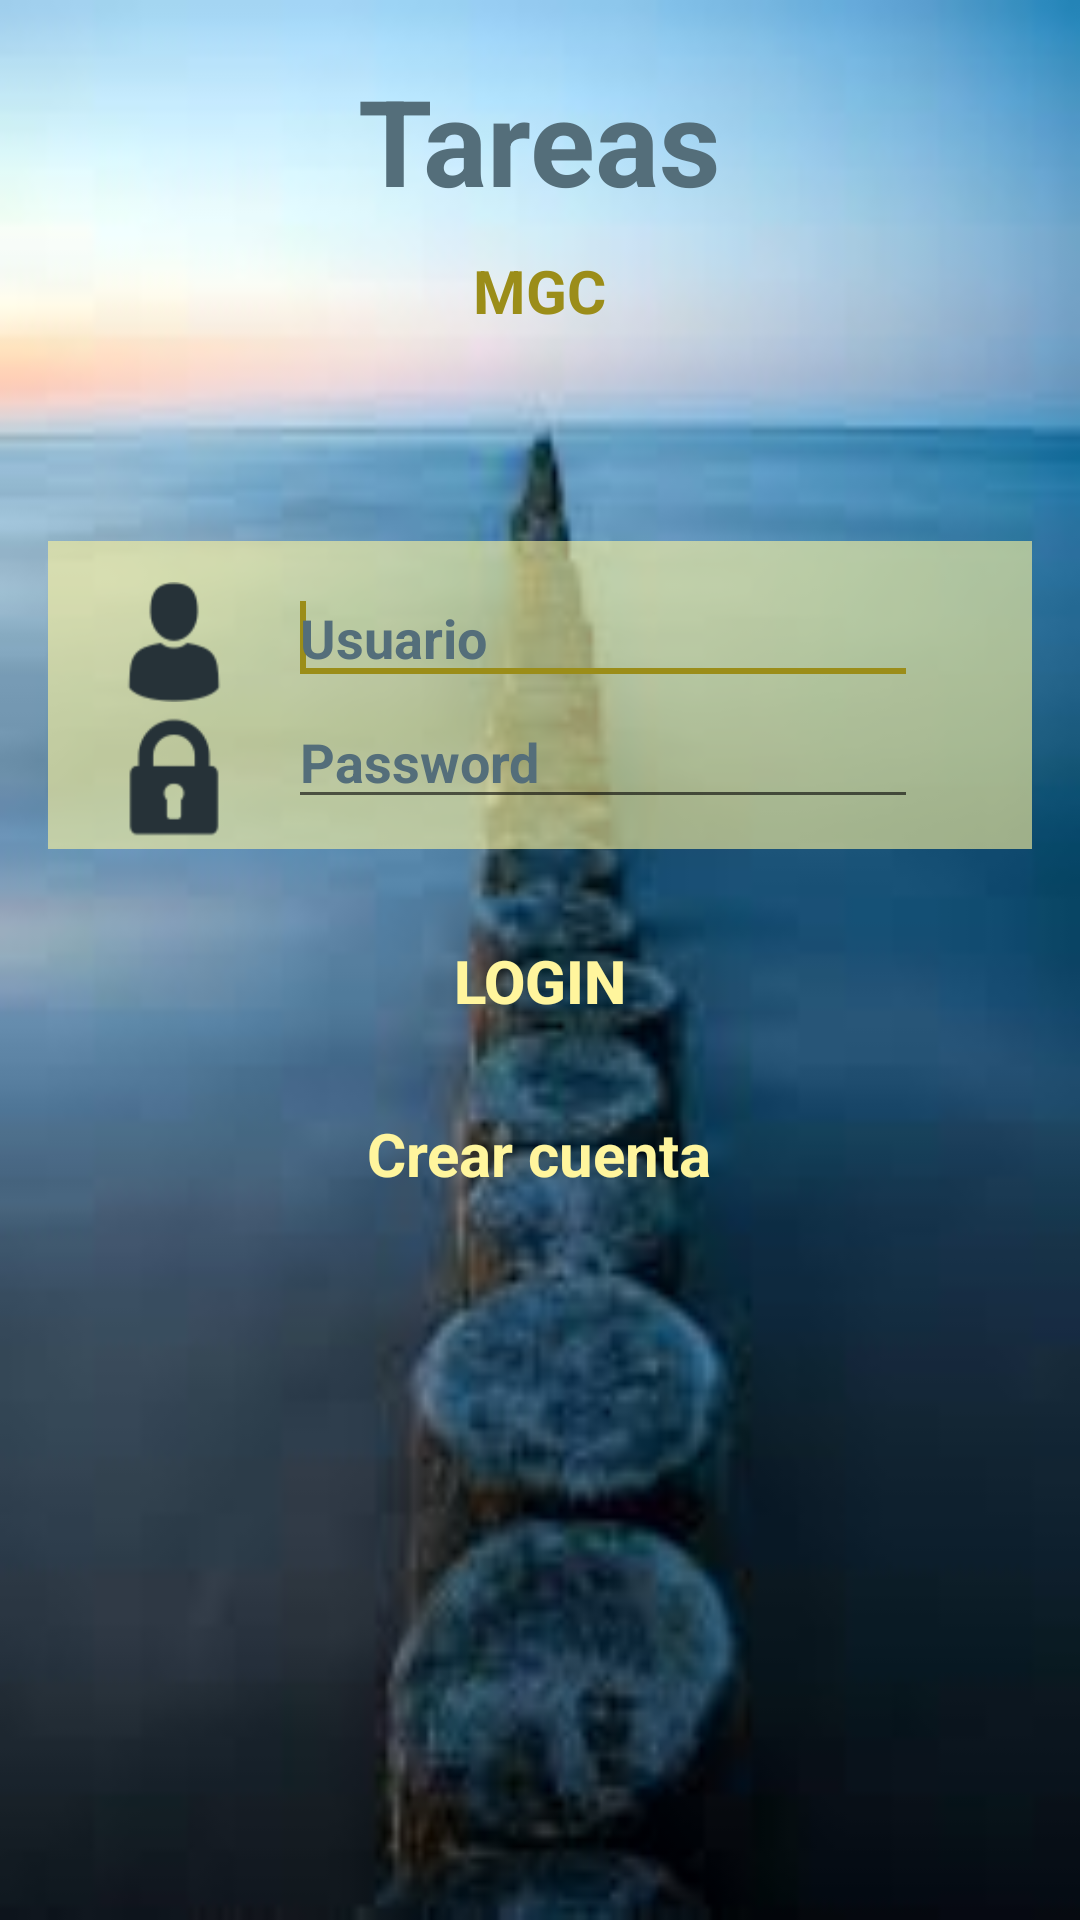

Named icons in this screenshot (1080w x 1920h) and their bounding boxes, detection(x1, y1, x2, y2):
candado: detection(129, 719, 219, 836)
